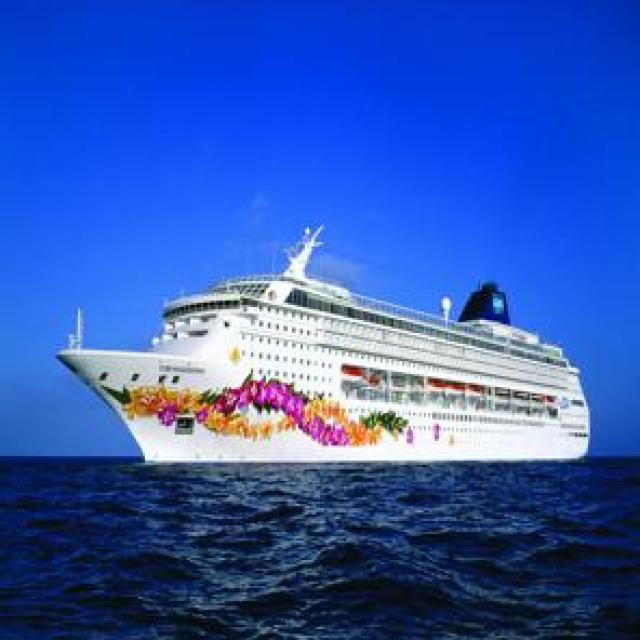passenger ship: (57, 213, 595, 467)
